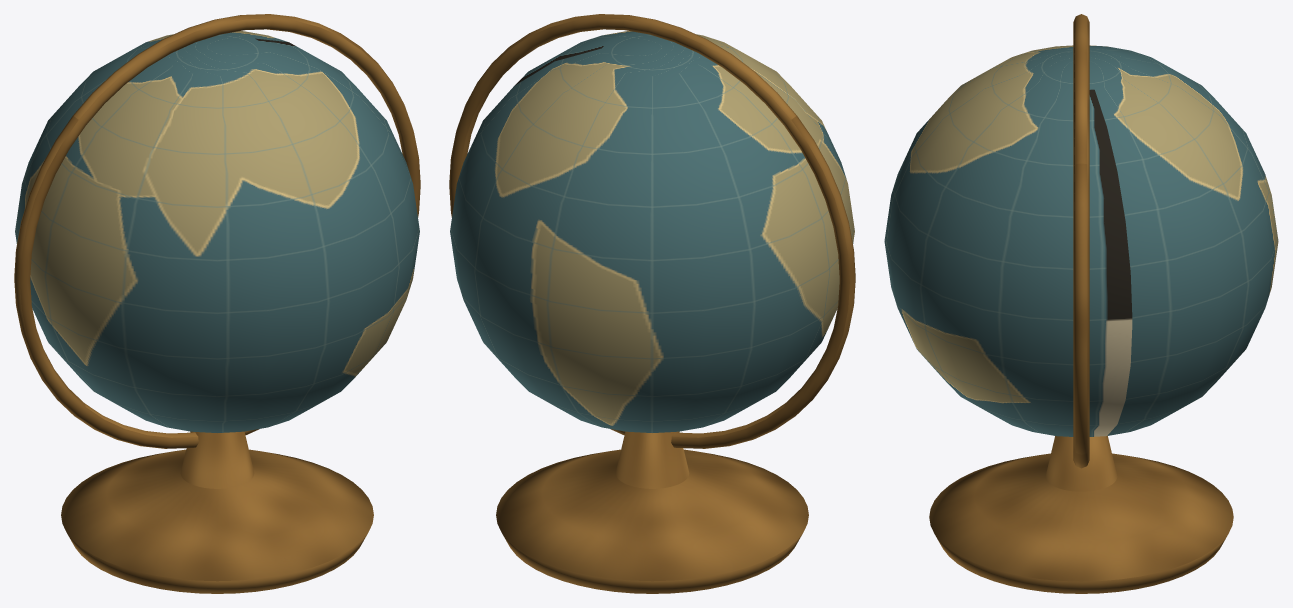
The model's file is Globe.fbx.
3 views of the same model, side by side, from view 1: azimuth 30°, elevation 25°; view 2: azimuth 150°, elevation 25°; view 3: azimuth 270°, elevation 25° (orthographic). The views are drawn at different scales.
Visible parts, largest first — view 1: Globe_Decals, Globe_Brass; view 2: Globe_Decals, Globe_Brass; view 3: Globe_Decals, Globe_Brass.
Boxes of the visible parts, left/top/right/bottom form: Globe_Decals: left=15, top=31, right=419, bottom=432; Globe_Brass: left=14, top=14, right=420, bottom=593; Globe_Decals: left=450, top=31, right=854, bottom=432; Globe_Brass: left=449, top=14, right=855, bottom=593; Globe_Decals: left=884, top=45, right=1278, bottom=436; Globe_Brass: left=929, top=14, right=1233, bottom=593.
Size of the model in its own units: 50.8 by 61.4 by 44.
